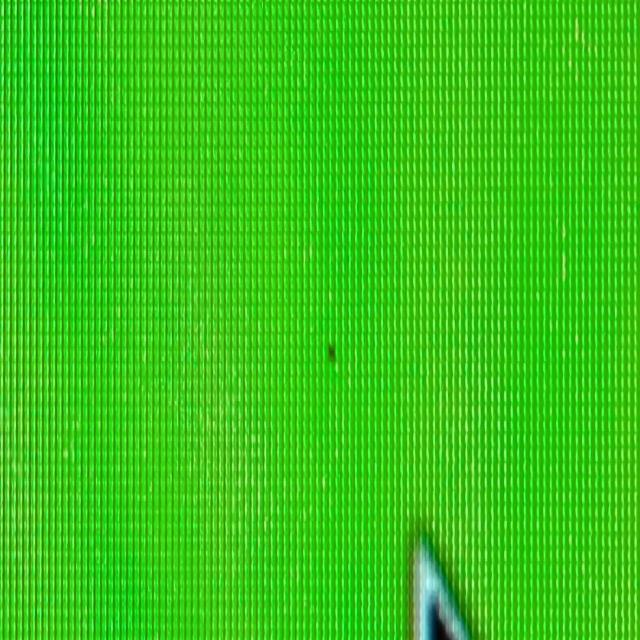Dead pixel: (327, 342, 336, 362)
